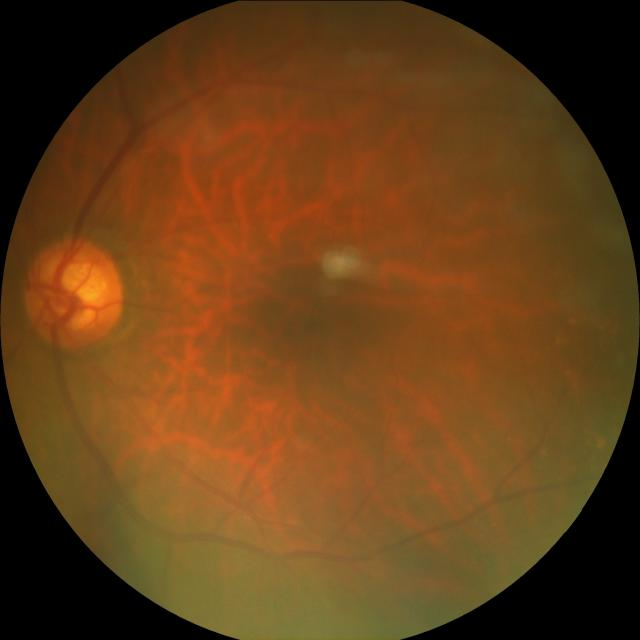OC: (40, 254, 110, 328)
OD: (21, 235, 123, 350)
